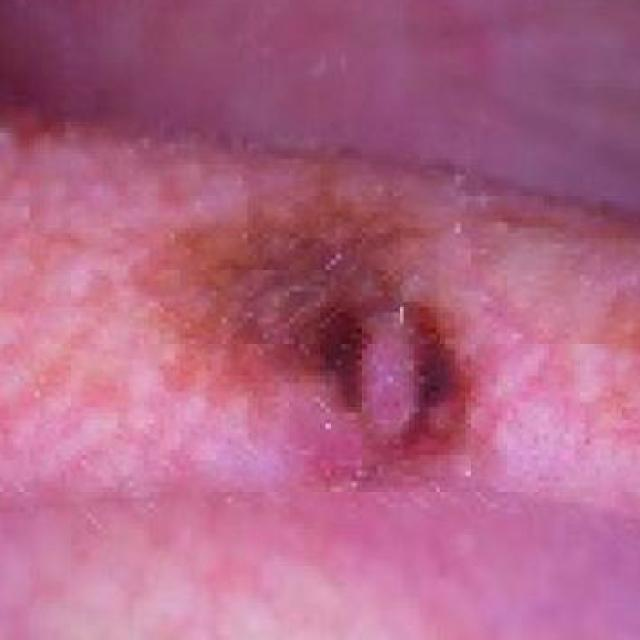MEL: (175, 76, 569, 623)
